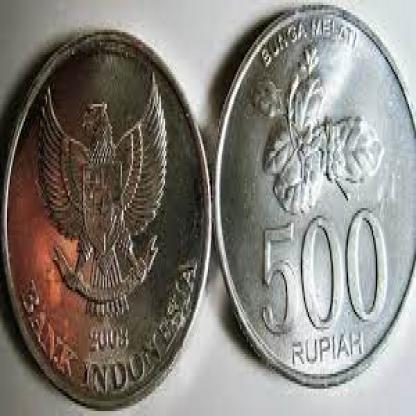coin_500_e2003: (205, 5, 416, 392), (0, 29, 209, 410)
